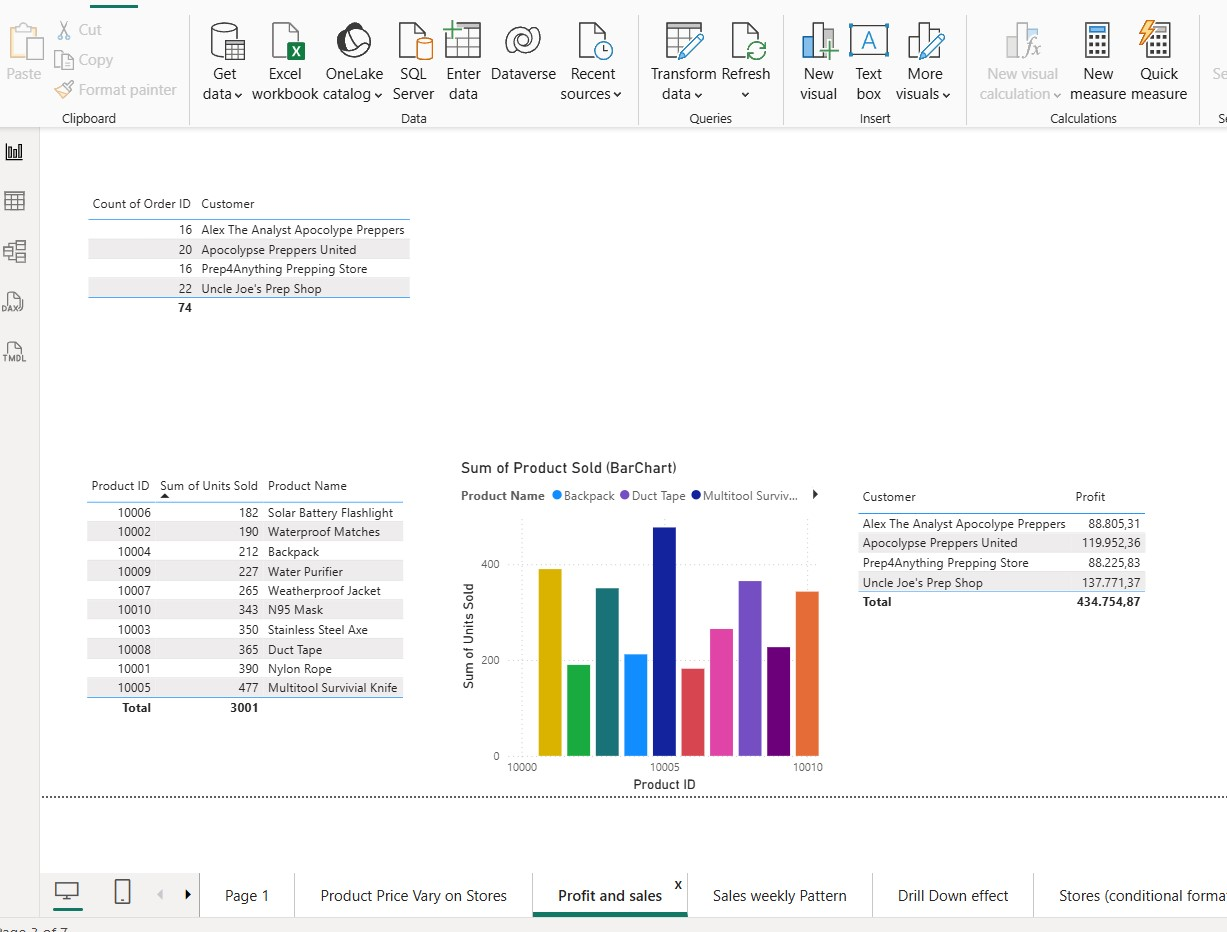

This screenshot's page, from the dashboard's own definition file:
{"tool":"powerbi","page":{"name":"Profit and sales","canvas":[1280,720],"ordinal":1},"visuals":[{"type":"tableEx","fields":{"Values":["CountNonNull(Apocolypse Sales (2).Order ID)","Apocolypse Sales (2).Customer"]},"box":[45.3,66.5,387,241.9],"z":0},{"type":"tableEx","fields":{"Values":["Apocolypse Sales (2).Product ID","Sum(Apocolypse Sales (2).Units Sold)","Apocolypse Store (2).Product Name"]},"box":[44.7,369.2,402,315.6],"z":1000},{"type":"columnChart","title":"Sum of Product Sold (BarChart)","fields":{"Category":["Apocolypse Store (2).Product ID"],"Series":["Apocolypse Store (2).Product Name"],"Y":["Sum(Apocolypse Sales (2).Units Sold)"]},"box":[447.2,356.6,400.5,363.9],"z":2000},{"type":"tableEx","fields":{"Values":["Apocolypse Sales (2).Customer","Apocolypse Store (2).Profit"]},"box":[873.8,381.3,387.2,289.3],"z":3000}]}

Visuals, with their boxes on the page's 1280x720 design canvas (x1, y1, x2, y2). These are canvas units, not pixel positions in the 1227x932 screenshot, which may show the page scaled, cropped or inside an application window:
tableEx - CountNonNull(Apocolypse Sales (2).Order ID) x Apocolypse Sales (2).Customer: [left=45, top=66, right=432, bottom=308]
tableEx - Apocolypse Sales (2).Product ID x Sum(Apocolypse Sales (2).Units Sold): [left=45, top=369, right=447, bottom=685]
"Sum of Product Sold (BarChart)" columnChart: [left=447, top=357, right=848, bottom=720]
tableEx - Apocolypse Sales (2).Customer x Apocolypse Store (2).Profit: [left=874, top=381, right=1261, bottom=671]
